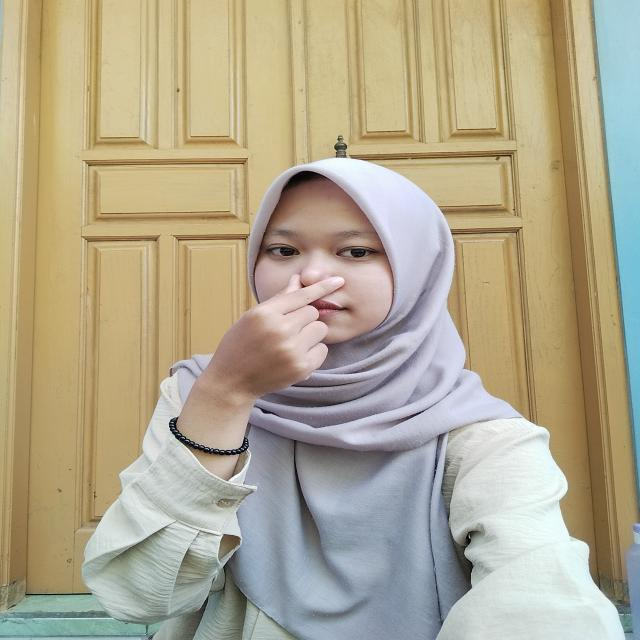bau: (210, 246, 362, 403)
